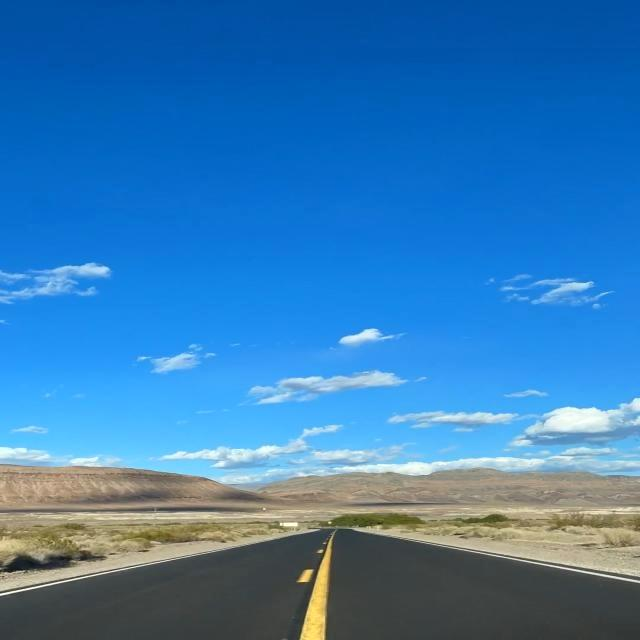road: (0, 529, 639, 639)
